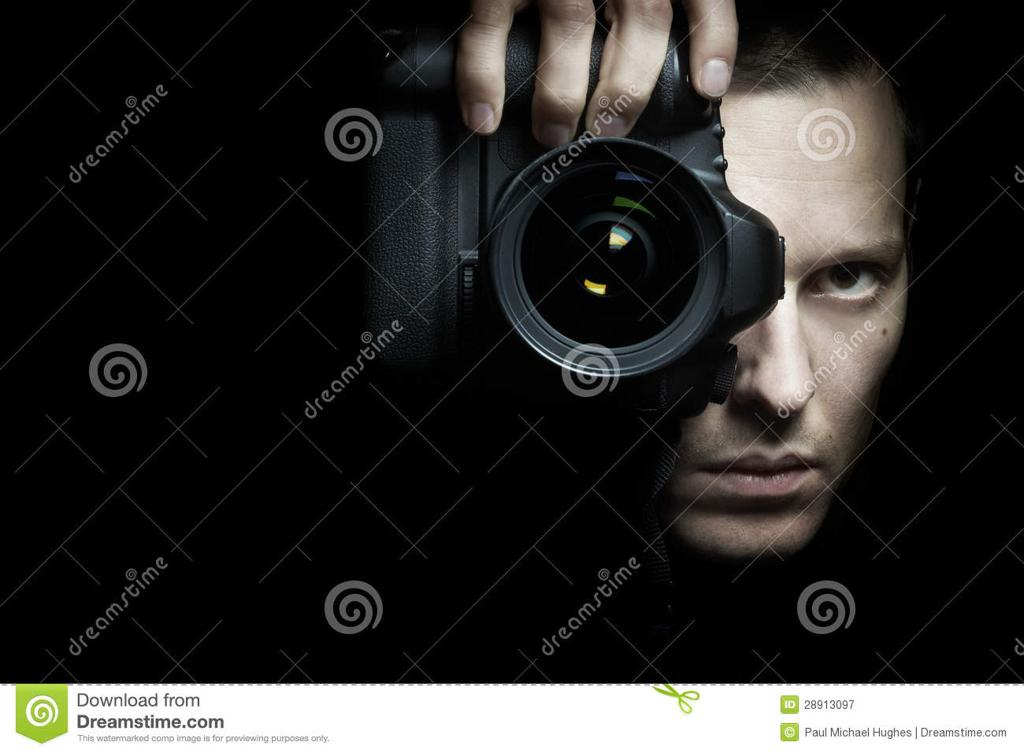face: (638, 82, 902, 558)
